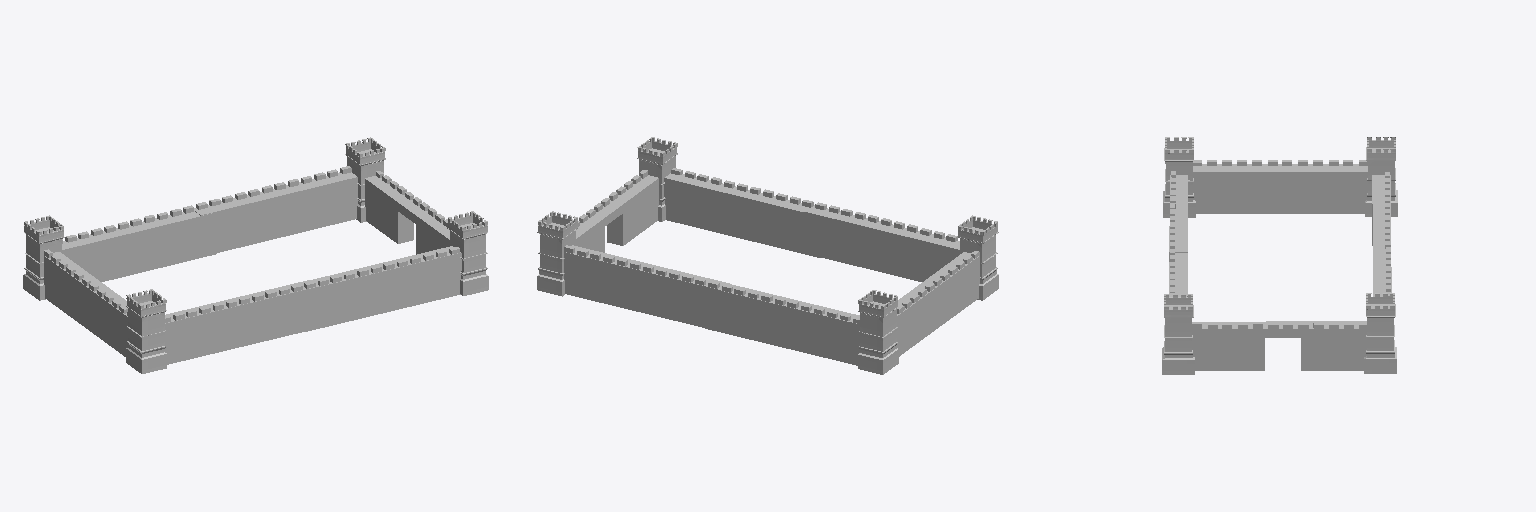
Rendered from zamek1Converted.obj.
3 renders of one model, left to right at view 1: azimuth 30°, elevation 25°; view 2: azimuth 150°, elevation 25°; view 3: azimuth 270°, elevation 25°, orthographic.
Size of the model in its own units: 53.26 by 10.03 by 31.13.